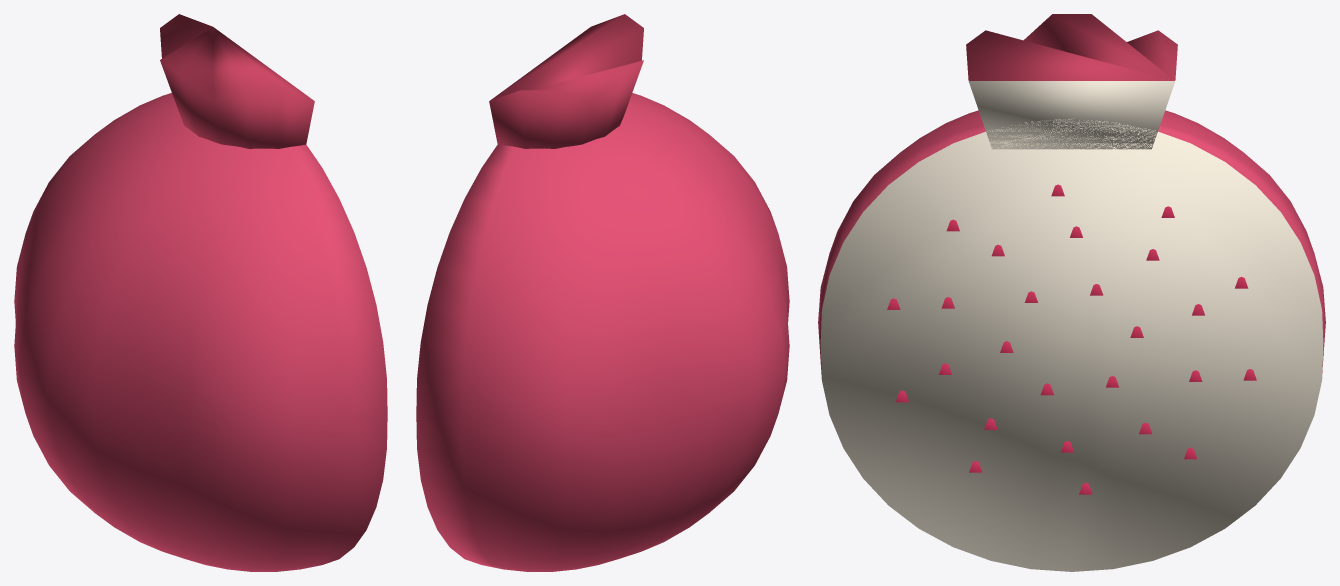
Rendered from Pomegranate_Half_B.fbx.
3 views of the same model, side by side, from view 1: azimuth 30°, elevation 25°; view 2: azimuth 150°, elevation 25°; view 3: azimuth 270°, elevation 25° (orthographic).
Visible parts, largest first — view 1: Pomegranate_Half_B; view 2: Pomegranate_Half_B; view 3: Pomegranate_Half_B.
Part boxes in pixels (bbox=[...]): Pomegranate_Half_B: bbox=[14, 14, 387, 571]; Pomegranate_Half_B: bbox=[416, 14, 789, 571]; Pomegranate_Half_B: bbox=[818, 14, 1325, 571].
Bounding box in the file's own units: 0.5793 × 1.2 × 1.08.
